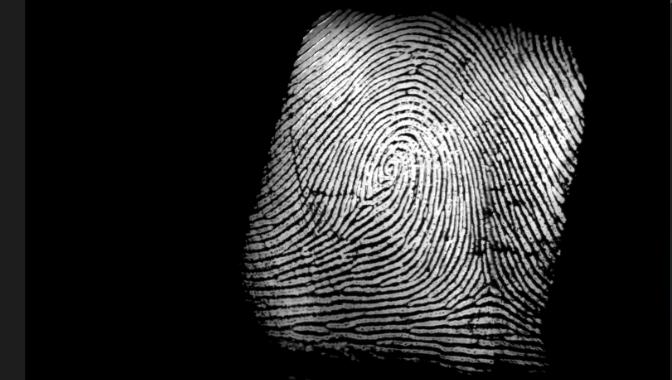nucelo: (376, 147, 403, 191)
verticilo: (475, 270, 508, 305), (352, 183, 372, 207)
